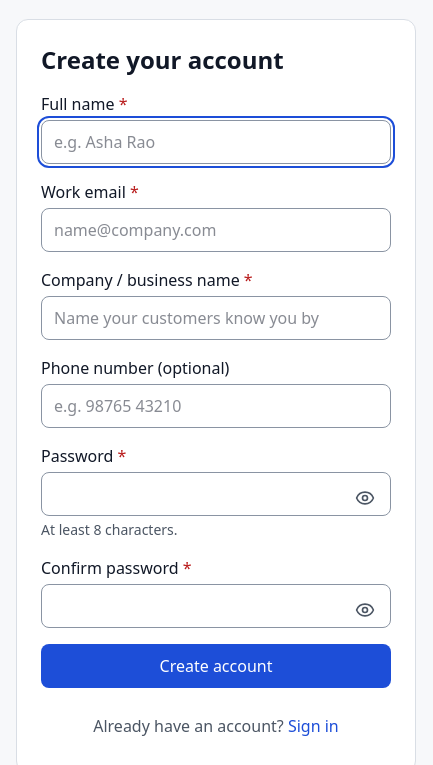
it: sign up page › explains every required field that is empty and sends nothing
(page scrolled)
Expected: the heading "Create your account" is shown, x1=41 y1=43 x2=284 y2=76
What coordinates should you click on to do the following:
click the button "Create account"
I would click on:
 (216, 666)
Its box is x1=41 y1=644 x2=391 y2=688.
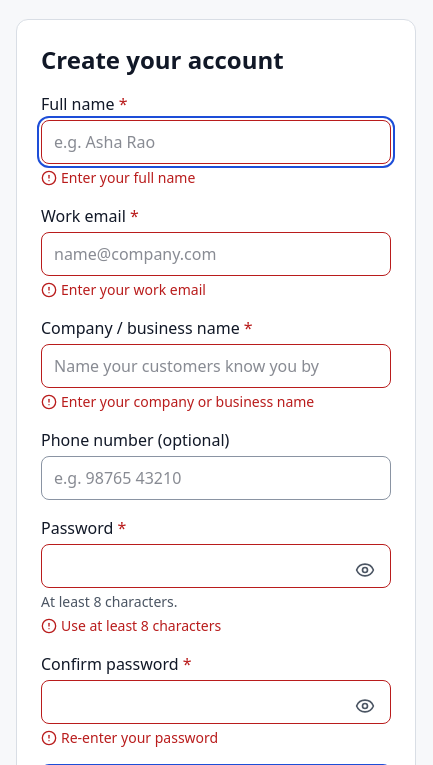
Expected: the text "Enter your full name" is shown, x1=41 y1=168 x2=195 y2=187
Expected: the text "Enter your work email" is shown, x1=41 y1=280 x2=206 y2=299
Expected: the text "Enter your company or business name" is shown, x1=41 y1=392 x2=314 y2=411
